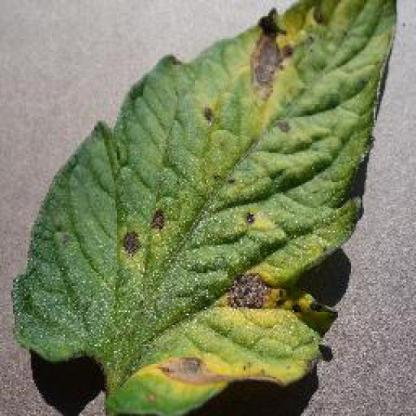Tomato_Blight: (15, 9, 396, 416)
